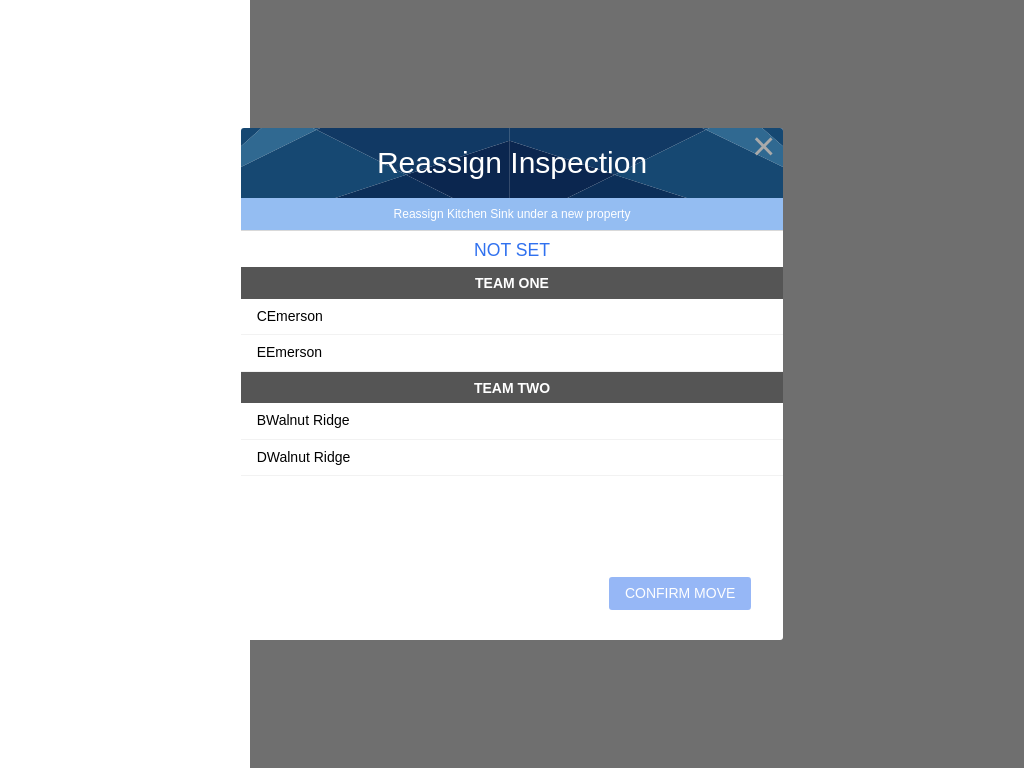
Unit | features | Property Profile | Move Inspection Modal › should update property selection when selected property
Click the list item with test id "move-inspection-property-item" showing "CEmerson".
click(512, 317)  # box left=241, top=299, right=783, bottom=335
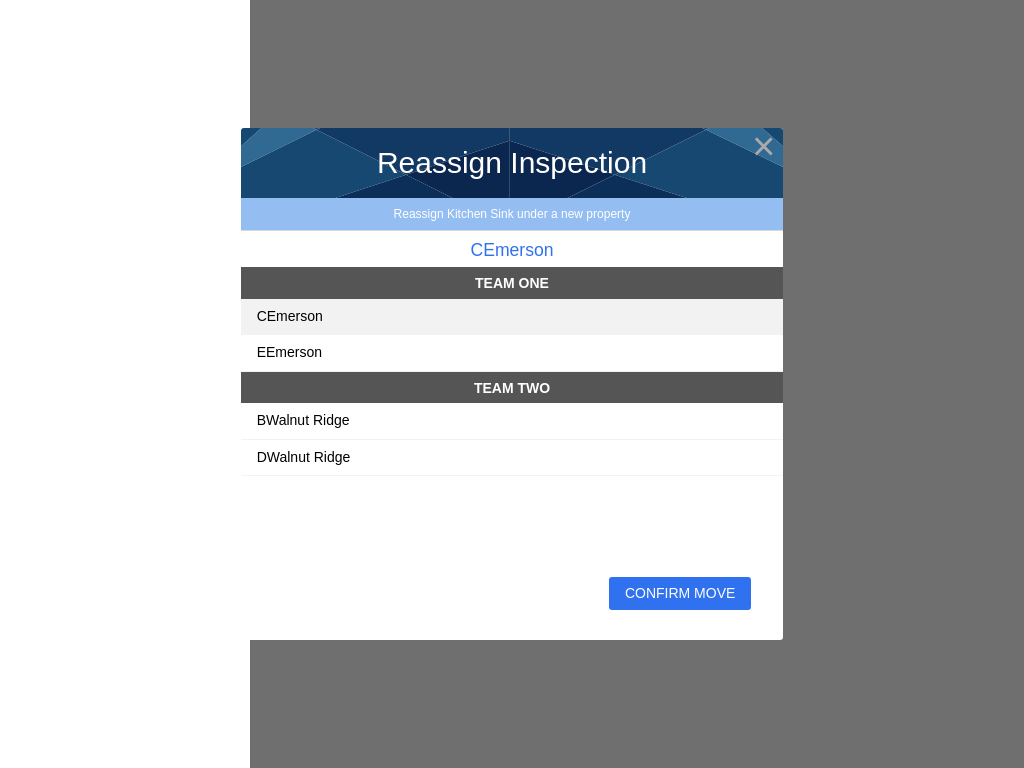
Check: the text with test id "move-inspection-selected-property" reads "CEmerson", box left=470, top=240, right=554, bottom=260
